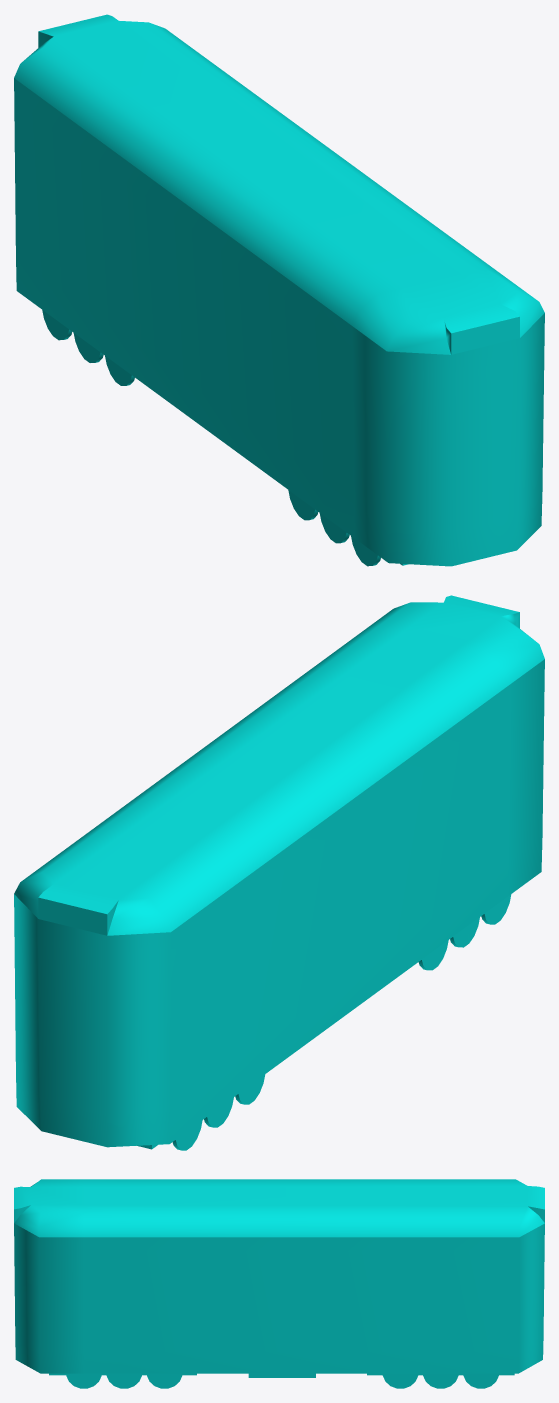
File: train_low.fbx
The picture shows the model from 3 angles, top to bottom: view 1: azimuth 30°, elevation 25°; view 2: azimuth 150°, elevation 25°; view 3: azimuth 270°, elevation 25°; orthographic projection. The views are drawn at different scales.
Visible parts, largest first — view 1: carriage, door; view 2: carriage, door; view 3: carriage, chassis, wheel13, wheel14, wheel16, wheel12, wheel15, wheel17.
Boxes of the visible parts, x1,y1,x2,y2 form: carriage: (14,14,544,566); door: (322,325,353,503); carriage: (14,595,544,1147); door: (478,706,509,884); carriage: (14,1179,544,1373); chassis: (49,1373,514,1377); wheel13: (382,1373,418,1388); wheel14: (463,1373,498,1388); wheel16: (106,1373,141,1388); wheel12: (423,1373,458,1388); wheel15: (147,1373,182,1388); wheel17: (66,1373,101,1388).
Bounding box in the file's own units: 1.94 × 3.13 × 8.78.
